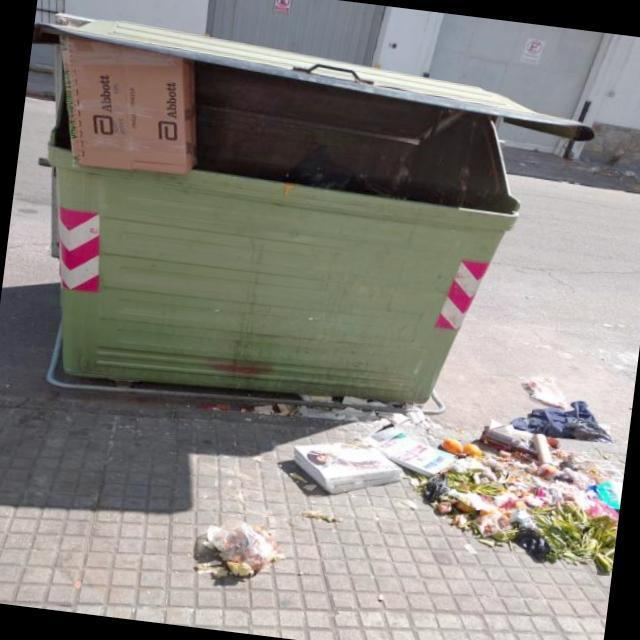garbage: (200, 380, 629, 610), (34, 29, 230, 192), (164, 480, 346, 618), (502, 351, 580, 452)
